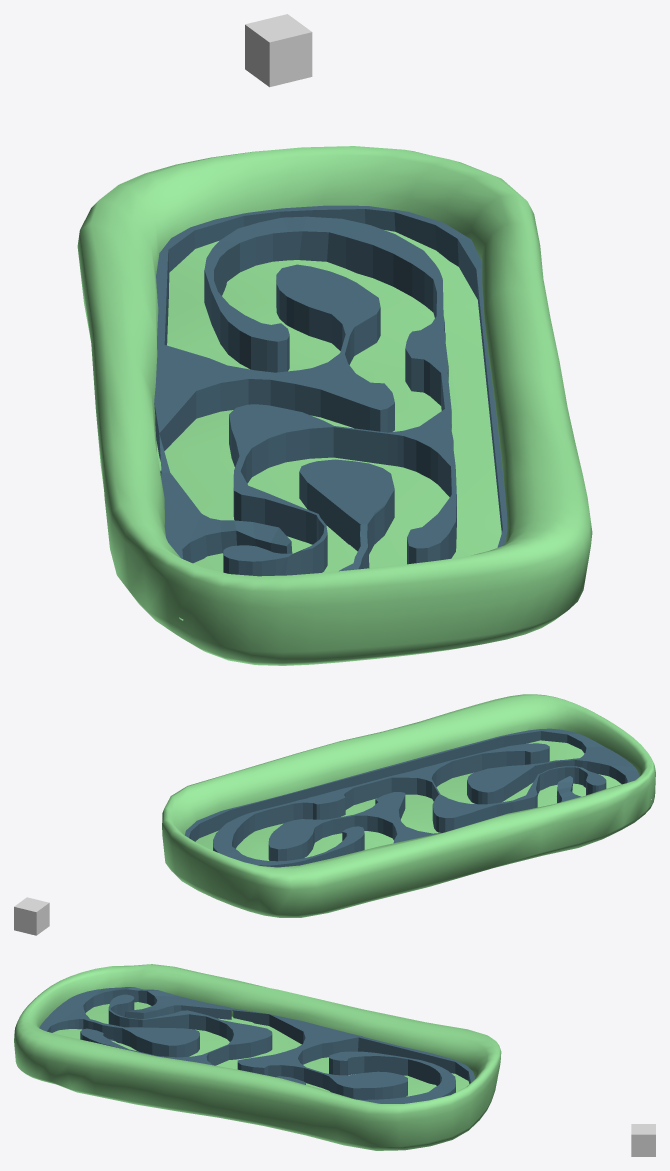
File: raceTrack 1.fbx
3 renders of one model, top to bottom at view 1: azimuth 30°, elevation 25°; view 2: azimuth 150°, elevation 25°; view 3: azimuth 270°, elevation 25°, orthographic. The views are drawn at different scales.
Visible parts, largest first — view 1: Cube, Cube.003, Cube.005; view 2: Cube, Cube.003, Cube.005; view 3: Cube, Cube.003, Cube.005.
Part boxes in pixels (left/top/right/bottom): Cube: left=77, top=146, right=592, bottom=665; Cube.003: left=154, top=205, right=507, bottom=576; Cube.005: left=245, top=14, right=312, bottom=87; Cube: left=162, top=694, right=655, bottom=917; Cube.003: left=184, top=728, right=639, bottom=867; Cube.005: left=14, top=897, right=49, bottom=935; Cube: left=14, top=964, right=501, bottom=1150; Cube.003: left=39, top=987, right=474, bottom=1103; Cube.005: left=631, top=1124, right=655, bottom=1156.
Size of the model in its own units: 13104 by 2191 by 21888.
